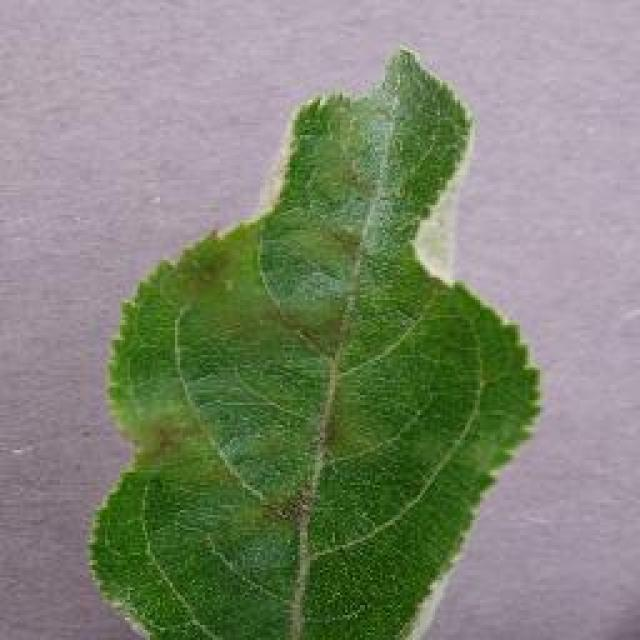apple scab disease: (85, 42, 543, 638)
